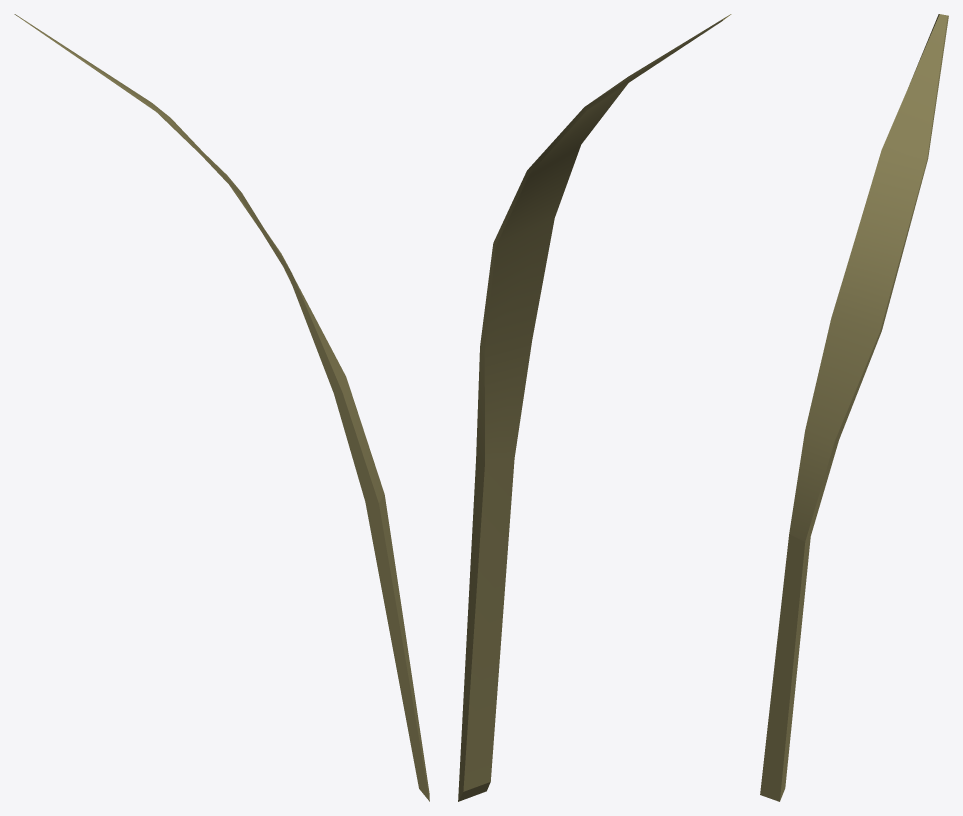
The picture shows the model from 3 angles, left to right: view 1: azimuth 30°, elevation 25°; view 2: azimuth 150°, elevation 25°; view 3: azimuth 270°, elevation 25°; orthographic projection. The views are drawn at different scales.
Visible parts, largest first — view 1: group12pCube5pCube8; view 2: group12pCube5pCube8; view 3: group12pCube5pCube8.
Boxes of the visible parts, <box> form: group12pCube5pCube8: <box>14,14,429,801</box>; group12pCube5pCube8: <box>458,14,731,801</box>; group12pCube5pCube8: <box>760,14,948,801</box>.
Size of the model in its own units: 17.47 by 41.41 by 10.77.
